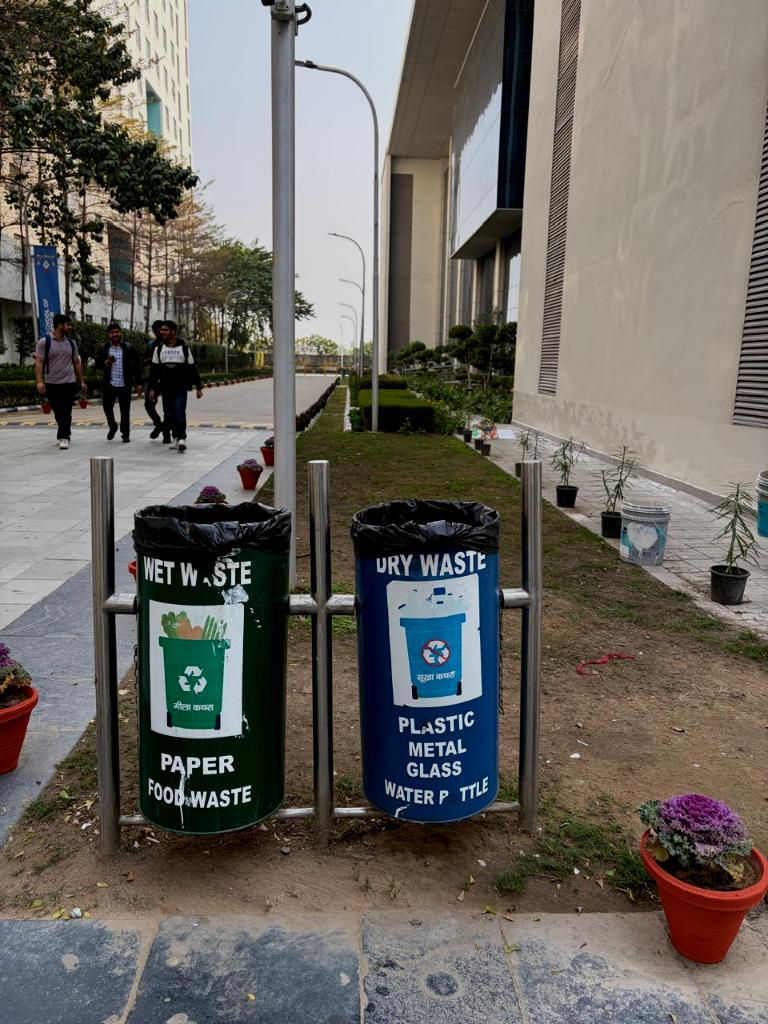dustbin: (80, 446, 555, 879), (86, 451, 341, 849), (302, 459, 550, 837)
